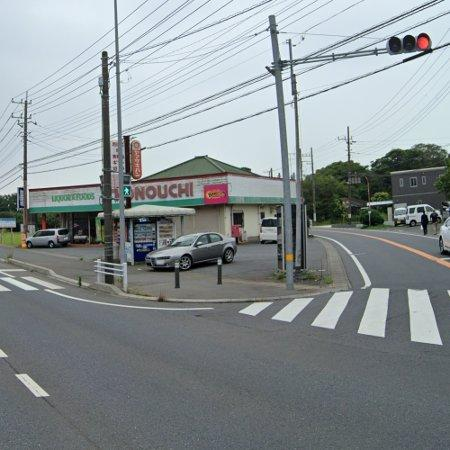crosswalks: (240, 286, 446, 344)
